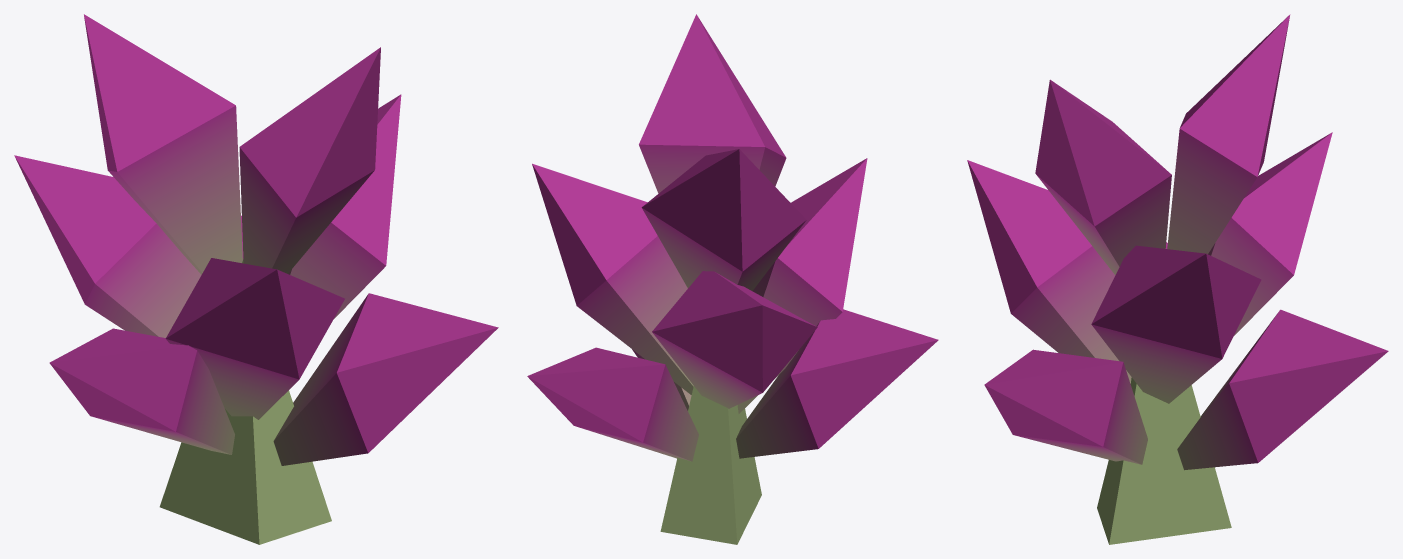
Rendered from Parasite.glb.
The picture shows the model from 3 angles, left to right: view 1: azimuth 30°, elevation 25°; view 2: azimuth 150°, elevation 25°; view 3: azimuth 270°, elevation 25°; orthographic projection. The views are drawn at different scales.
Parts seen in each view (by area): view 1: Parasite; view 2: Parasite; view 3: Parasite.
Part boxes in pixels (<box>): Parasite: <box>14,14,498,544</box>; Parasite: <box>527,14,938,544</box>; Parasite: <box>967,14,1388,544</box>.
Size of the model in its own units: 0.7408 by 0.8668 by 0.6988.
